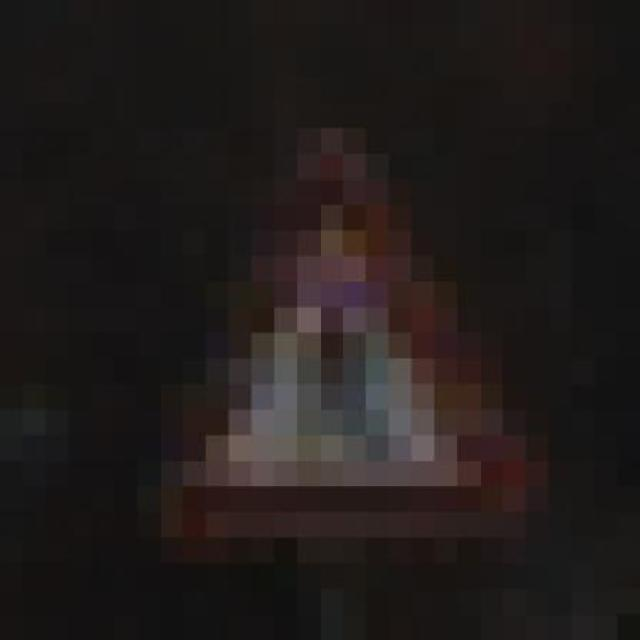Pedestrian Crossing: (123, 72, 559, 533)
